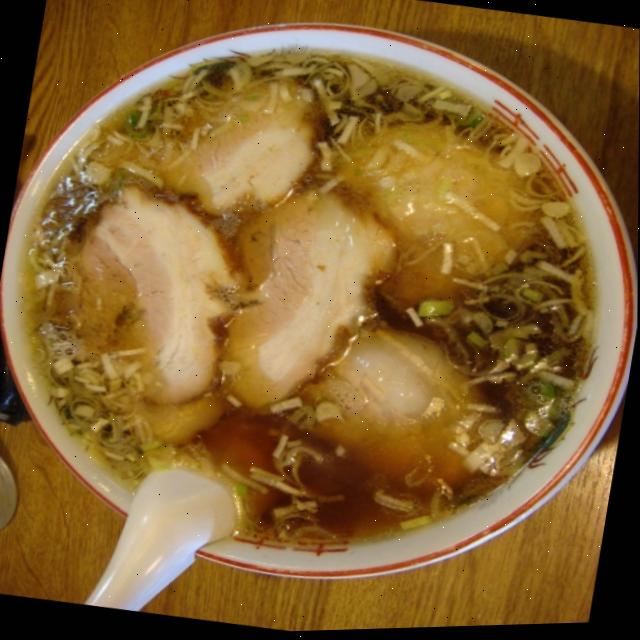面条主食: (0, 8, 640, 596)
